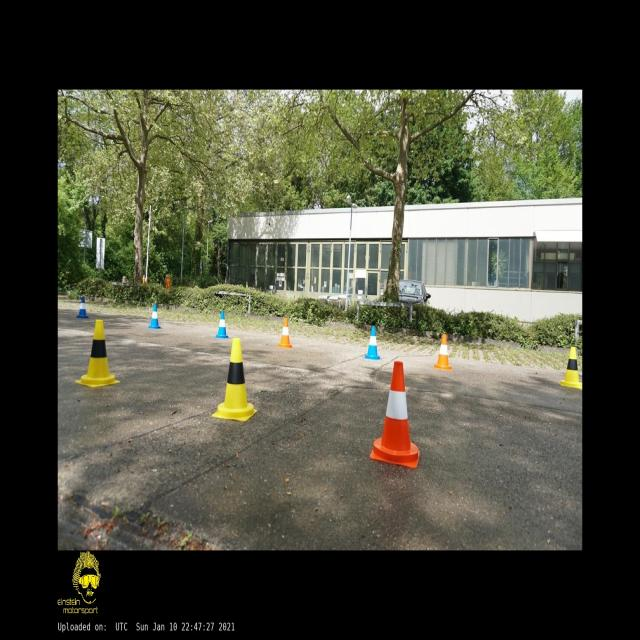blue_cone: (363, 325, 381, 359), (214, 310, 228, 338), (147, 304, 161, 329), (75, 296, 89, 319)
orange_cone: (369, 361, 420, 469), (434, 334, 451, 369), (277, 318, 292, 348)
yellow_cone: (211, 338, 257, 422), (74, 318, 120, 388), (75, 319, 120, 388), (559, 347, 582, 389)
